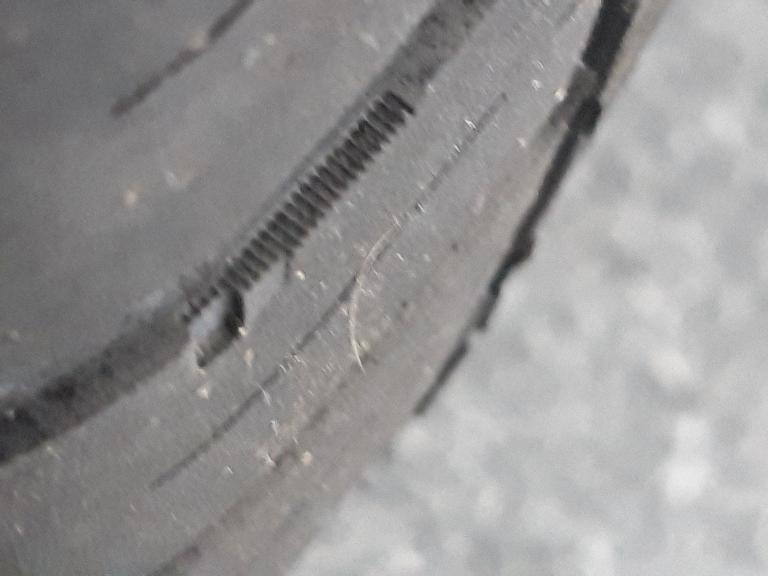temoin:25: (160, 229, 305, 379)
